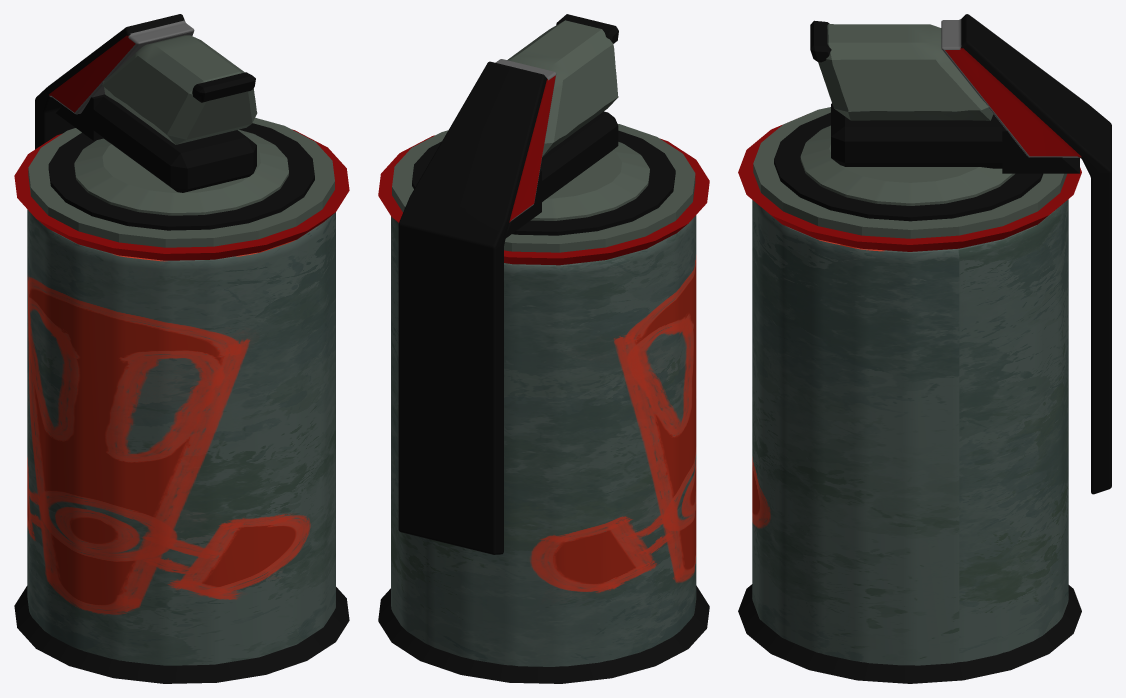
File: gas bomb.fbx
3 renders of one model, left to right at view 1: azimuth 30°, elevation 25°; view 2: azimuth 150°, elevation 25°; view 3: azimuth 270°, elevation 25°, orthographic. The views are drawn at different scales.
Parts seen in each view (by area): view 1: polySurface14, polySurface21, polySurface16, polySurface18, polySurface15, polySurface17, polySurface13, polySurface19, polySurface20, polySurface12, polySurface22; view 2: polySurface14, polySurface19, polySurface21, polySurface13, polySurface18, polySurface16, polySurface17, polySurface20, polySurface15, polySurface22, polySurface12; view 3: polySurface14, polySurface19, polySurface21, polySurface15, polySurface18, polySurface13, polySurface16, polySurface17, polySurface20, polySurface22, polySurface12.
Part boxes in pixels (x1,y1,x2,y2): polySurface14: [27, 209, 335, 665]; polySurface21: [102, 35, 257, 144]; polySurface16: [74, 129, 288, 215]; polySurface18: [28, 117, 334, 247]; polySurface15: [92, 95, 256, 192]; polySurface17: [48, 123, 314, 230]; polySurface13: [14, 586, 349, 683]; polySurface19: [35, 14, 194, 149]; polySurface20: [14, 129, 349, 260]; polySurface12: [192, 72, 255, 102]; polySurface22: [56, 94, 104, 140]; polySurface14: [391, 215, 696, 666]; polySurface19: [398, 59, 556, 554]; polySurface21: [507, 20, 618, 156]; polySurface13: [378, 585, 709, 683]; polySurface18: [392, 124, 695, 252]; polySurface16: [530, 142, 649, 220]; polySurface17: [412, 130, 675, 235]; polySurface20: [378, 135, 709, 265]; polySurface15: [540, 111, 618, 202]; polySurface22: [505, 170, 541, 238]; polySurface12: [556, 14, 618, 43]; polySurface14: [752, 199, 1068, 665]; polySurface19: [941, 14, 1111, 494]; polySurface21: [818, 24, 993, 120]; polySurface15: [831, 103, 1005, 168]; polySurface18: [753, 107, 1066, 238]; polySurface13: [738, 584, 1081, 683]; polySurface16: [800, 125, 1014, 205]; polySurface17: [774, 112, 1043, 221]; polySurface20: [738, 125, 1081, 251]; polySurface22: [1002, 126, 1079, 173]; polySurface12: [810, 20, 831, 62].
Size of the model in its own units: 5.36 by 10.04 by 5.83.
Materials: 5 (1 with a texture image).
